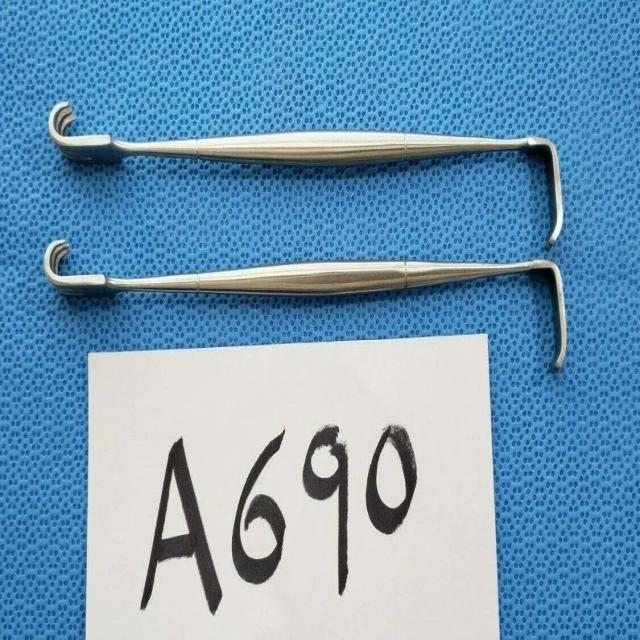Senn Retractor: (34, 232, 572, 386), (43, 92, 565, 242)
